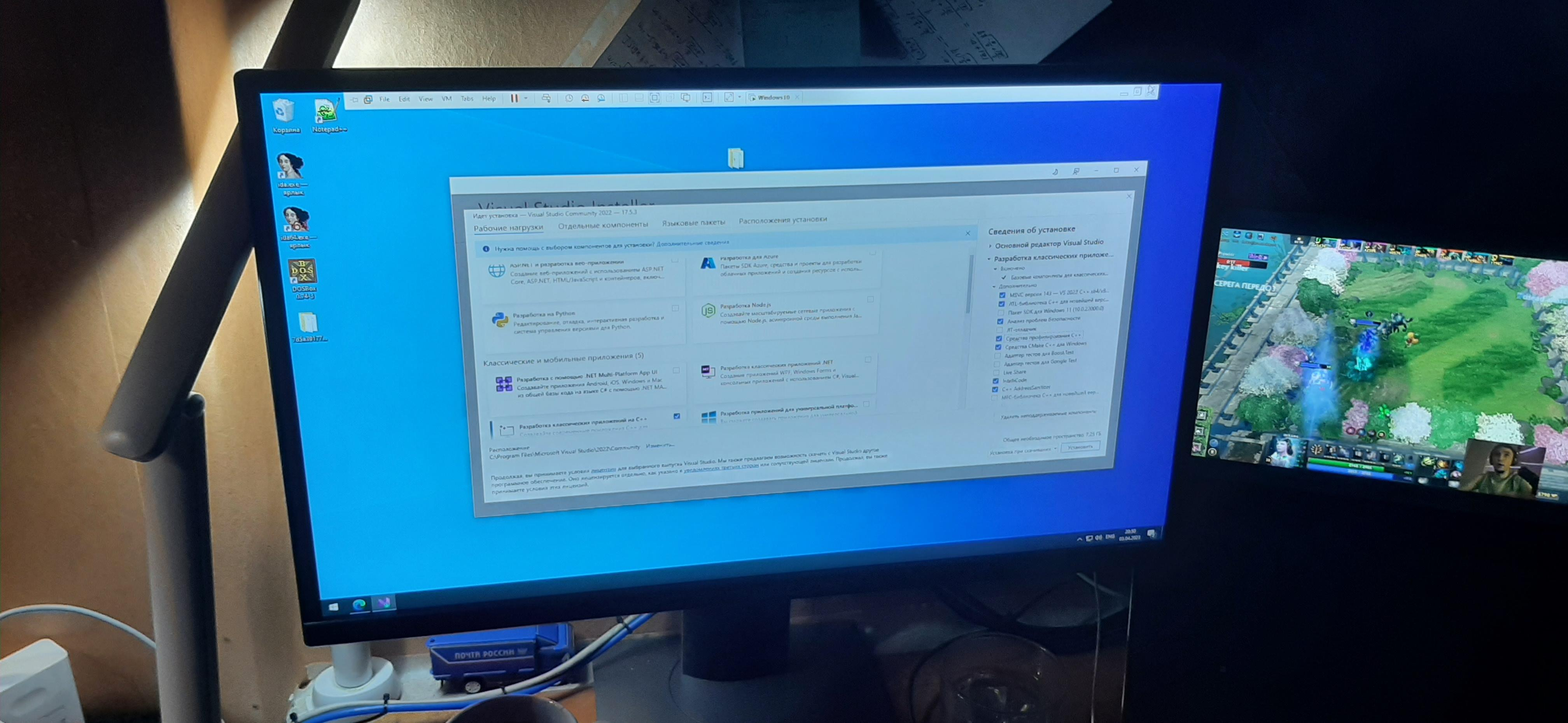monitor: (231, 66, 1239, 649), (1184, 210, 1568, 529)
